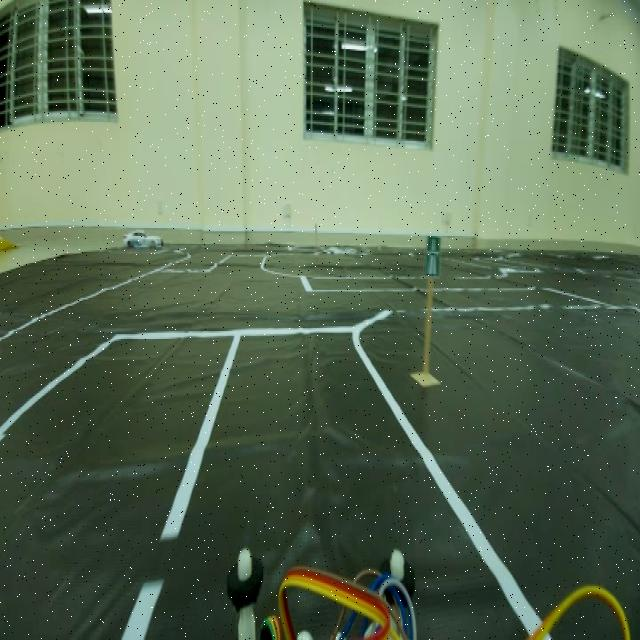highway_entry: (421, 224, 447, 291)
